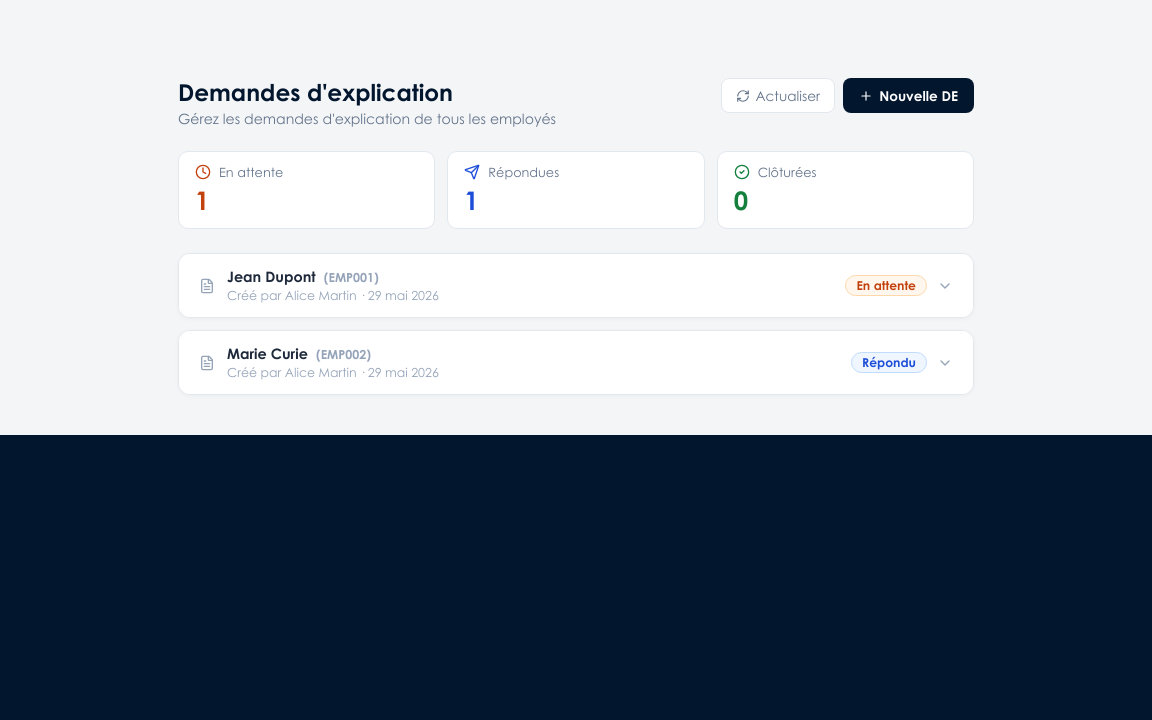
Scenario: DemandeExplicationPage — vue RH › ouvre la modale création sur clic "Nouvelle DE"
The image size is (1152, 720).
Click the button "Nouvelle DE" at coordinates (909, 96), box left=843, top=78, right=974, bottom=113
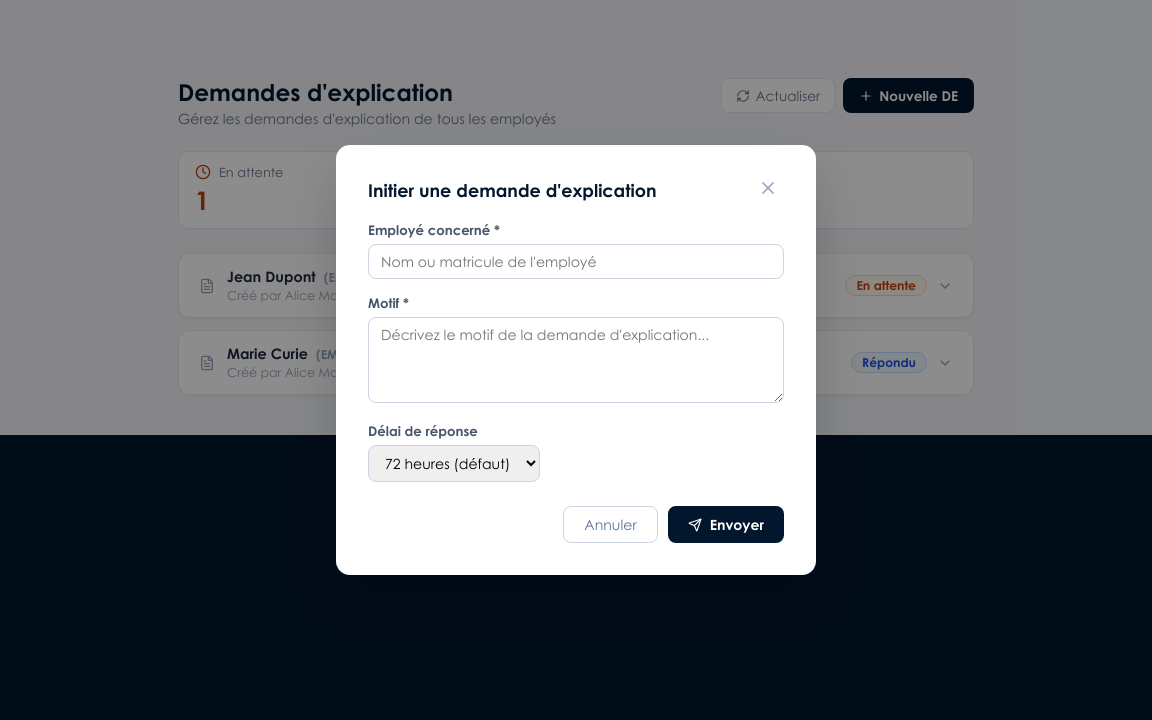
Check: the heading "Initier une demande d'explication" is shown, box left=368, top=178, right=656, bottom=200
